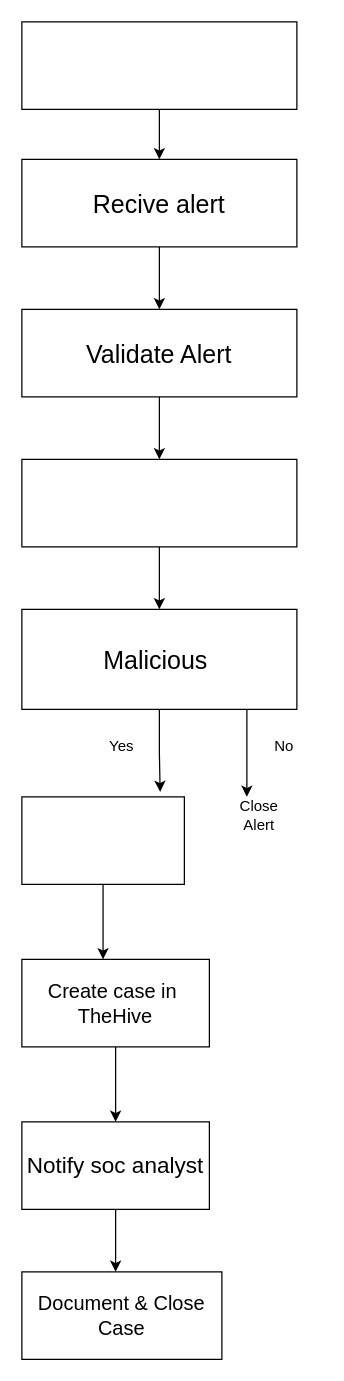
Some shapes in this 344 by 1381 pixel diagram are drawn without their labels. Here are the shapes that lost their labels. From the top down, the box of each, then its label:
(21, 21, 297, 109): Start
(21, 458, 297, 547): Virustool Check
(21, 796, 184, 884): Block ip
